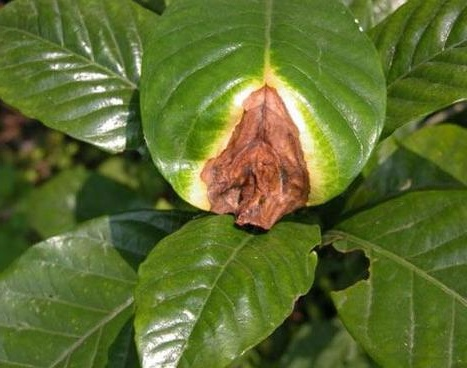Anthracnose: (189, 77, 314, 216)
